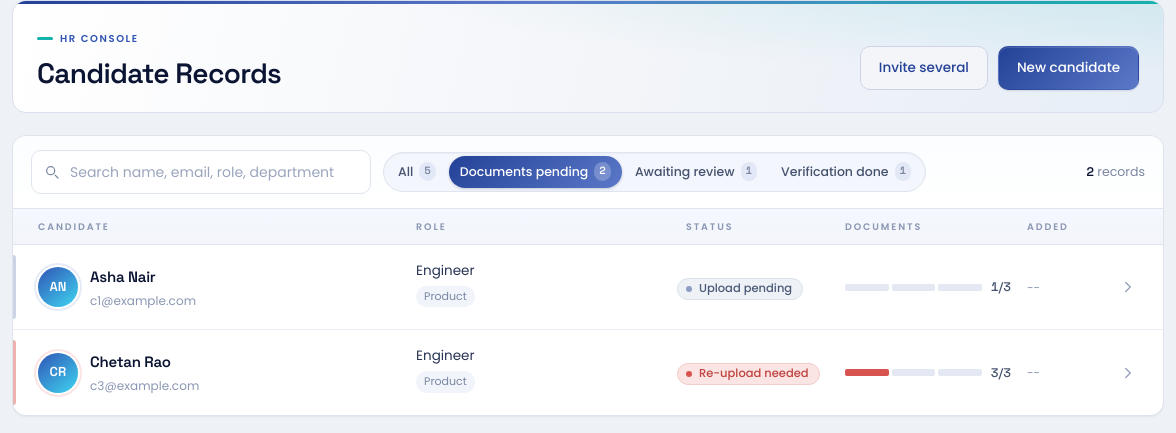
it: clicking a dashboard figure › lets HR change their mind with the same control
Check: the text "Asha Nair" is shown, box [90,267,156,286]
Click the button "Verification done 1". click: (846,172)
box: [770,156,922,188]
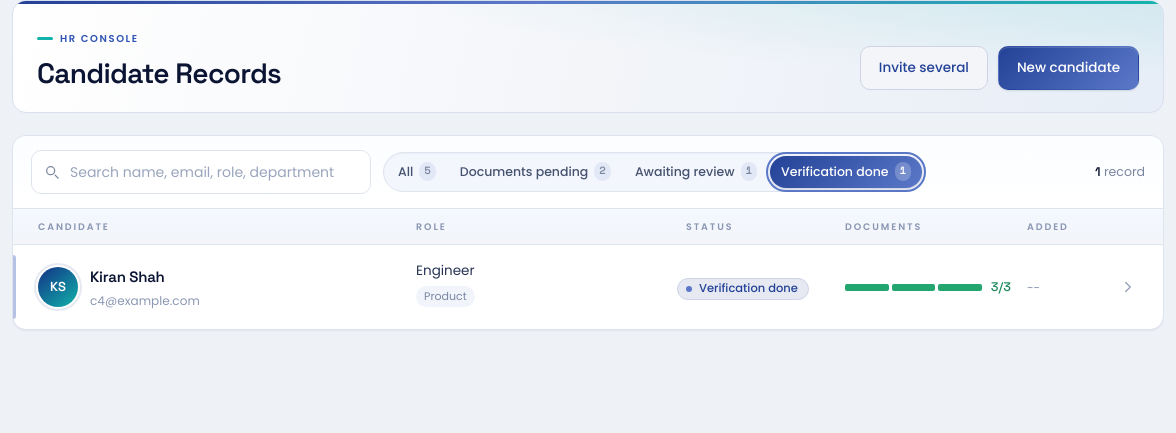
Check: the text "Kiran Shah" is shown, box [90,267,165,286]
Check: the button "Asha Nair" is gone
